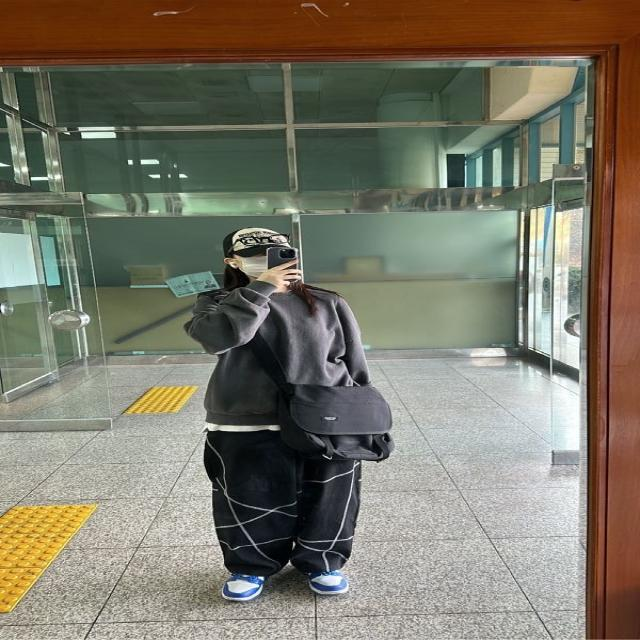denimpants: (204, 424, 362, 581)
mtm: (185, 278, 370, 431)
